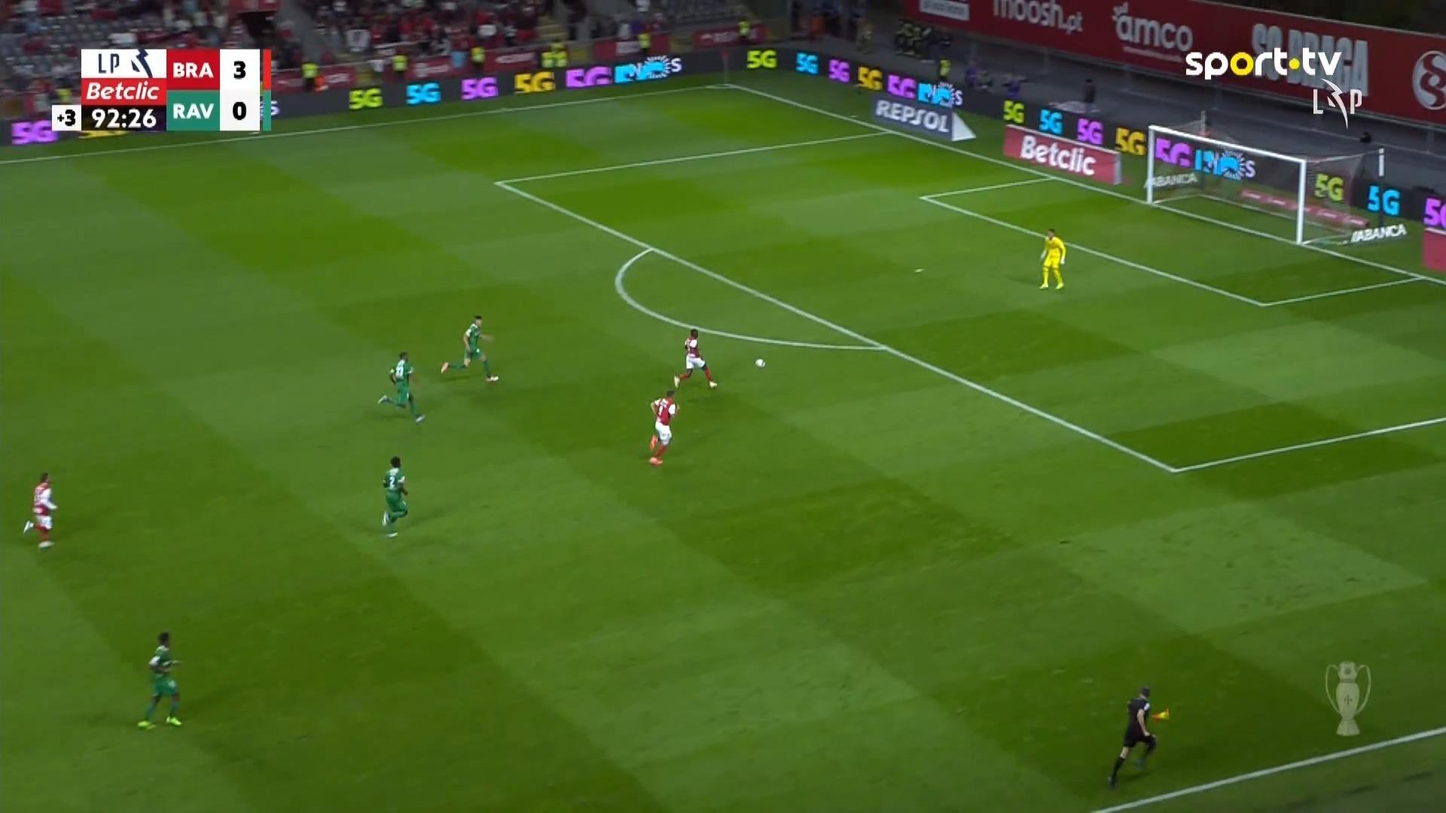ball: (755, 358, 764, 367)
goalkeeper: (1038, 227, 1066, 290)
player: (136, 631, 183, 729), (439, 314, 499, 382), (377, 350, 426, 423), (673, 327, 718, 389), (22, 471, 57, 548), (647, 389, 679, 465), (380, 455, 409, 537)
referee: (1106, 685, 1169, 789)
